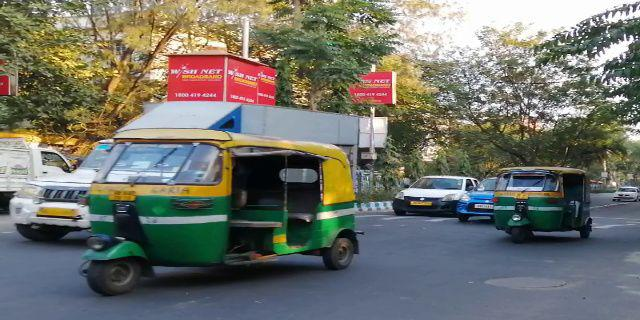Autorickshaw: (77, 126, 363, 295), (490, 163, 595, 244)
Car: (392, 170, 475, 217), (455, 172, 490, 222)
Minitruck: (10, 97, 364, 250)
